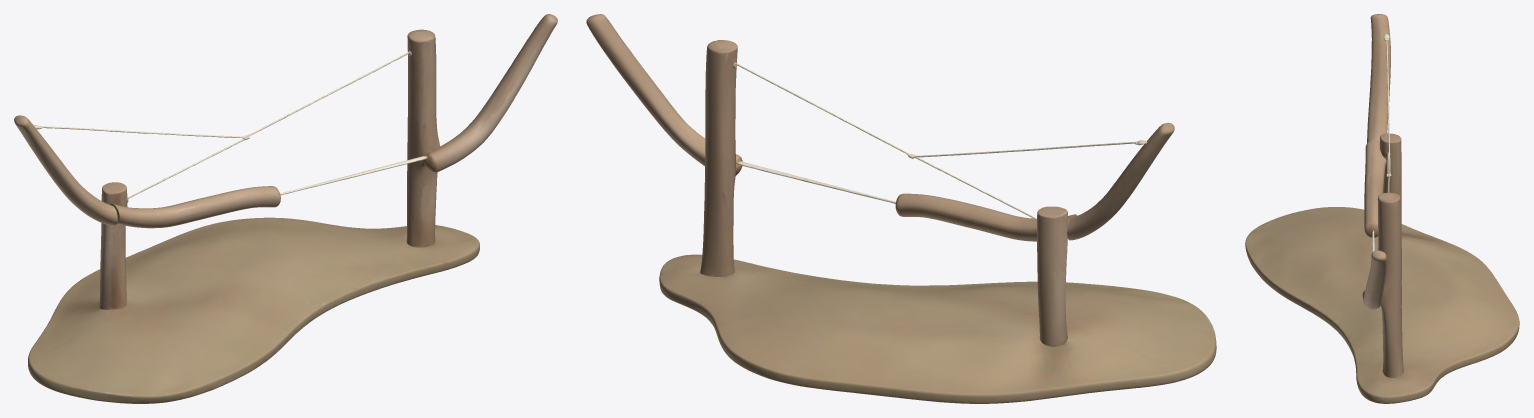
Rendered from set-bow.glb.
The picture shows the model from 3 angles, left to right: view 1: azimuth 30°, elevation 25°; view 2: azimuth 150°, elevation 25°; view 3: azimuth 270°, elevation 25°; orthographic projection. The views are drawn at different scales.
Parts seen in each view (by area): view 1: model; view 2: model; view 3: model.
Part boxes in pixels (left/top/right/bottom): model: left=14, top=14, right=557, bottom=403; model: left=586, top=14, right=1216, bottom=403; model: left=1245, top=14, right=1519, bottom=403.
Size of the model in its own units: 1.34 by 0.5747 by 0.7.
1 material, 1 textured.
